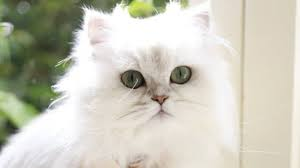kedi: (59, 2, 237, 168)
